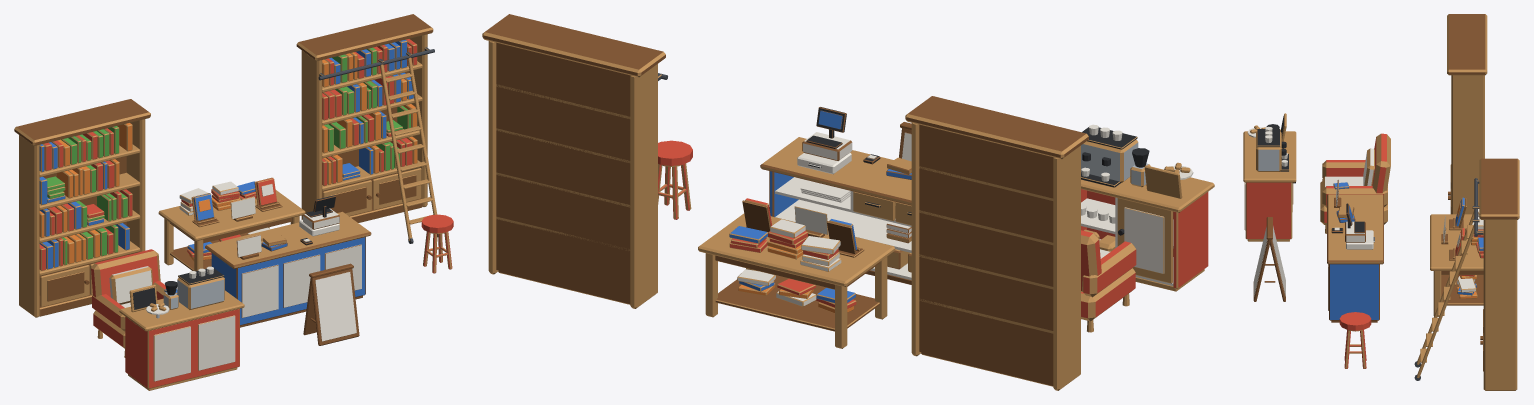
Rendered from low-poly-bookstore-set.glb.
3 views of the same model, side by side, from view 1: azimuth 30°, elevation 25°; view 2: azimuth 150°, elevation 25°; view 3: azimuth 270°, elevation 25° (orthographic). The views are drawn at different scales.
Parts seen in each view (by area): view 1: Bookshelf_Tall_Body, Bookshelf_Ladder_Body, Cafe_Counter_Body, Register_Counter_Body, Feature_Table_Body, Reading_Armchair_Body, Sign_ABoard_Blank_Body, Bookshelf_Ladder_Ladder, Bookshelf_Tall_Door_L, Bookshelf_Ladder_Door_R, Cafe_Stool_Body, Bookshelf_Ladder_Door_L; view 2: Bookshelf_Ladder_Body, Bookshelf_Tall_Body, Feature_Table_Body, Register_Counter_Body, Cafe_Counter_Body, Reading_Armchair_Body, Cafe_Counter_Door, Cafe_Stool_Body, Register_Counter, Register_Counter_CashDrawer; view 3: Bookshelf_Ladder_Body, Bookshelf_Tall_Body, Register_Counter_Body, Cafe_Counter_Body, Feature_Table_Body, Reading_Armchair_Body, Bookshelf_Ladder_Ladder, Sign_ABoard_Blank_Body, Cafe_Stool_Body, Register_Counter_CashDrawer.
Boxes of the visible parts, <box> form: Bookshelf_Tall_Body: <box>14,99,150,317</box>; Bookshelf_Ladder_Body: <box>296,14,434,222</box>; Cafe_Counter_Body: <box>119,266,244,390</box>; Register_Counter_Body: <box>205,195,371,327</box>; Feature_Table_Body: <box>158,177,305,271</box>; Reading_Armchair_Body: <box>91,249,177,357</box>; Sign_ABoard_Blank_Body: <box>303,263,359,345</box>; Bookshelf_Ladder_Ladder: <box>378,52,438,243</box>; Bookshelf_Tall_Door_L: <box>40,265,89,307</box>; Bookshelf_Ladder_Door_R: <box>372,168,421,210</box>; Cafe_Stool_Body: <box>421,214,453,273</box>; Bookshelf_Ladder_Door_L: <box>322,180,371,216</box>; Bookshelf_Ladder_Body: <box>482,14,667,308</box>; Bookshelf_Tall_Body: <box>905,96,1088,390</box>; Feature_Table_Body: <box>698,198,895,348</box>; Register_Counter_Body: <box>760,107,911,284</box>; Cafe_Counter_Body: <box>1081,124,1214,291</box>; Reading_Armchair_Body: <box>1081,230,1136,332</box>; Cafe_Counter_Door: <box>1117,198,1172,283</box>; Cafe_Stool_Body: <box>658,140,692,219</box>; Register_Counter: <box>853,191,911,225</box>; Register_Counter_CashDrawer: <box>797,152,851,174</box>; Bookshelf_Ladder_Body: <box>1474,158,1519,390</box>; Bookshelf_Tall_Body: <box>1447,14,1487,214</box>; Register_Counter_Body: <box>1327,179,1383,322</box>; Cafe_Counter_Body: <box>1243,113,1296,241</box>; Feature_Table_Body: <box>1430,197,1483,316</box>; Reading_Armchair_Body: <box>1320,133,1390,233</box>; Bookshelf_Ladder_Ladder: <box>1414,206,1479,380</box>; Sign_ABoard_Blank_Body: <box>1253,217,1285,301</box>; Cafe_Stool_Body: <box>1339,312,1371,368</box>; Register_Counter_CashDrawer: <box>1346,230,1374,249</box>.
Size of the model in its own units: 22.55 by 9.3 by 13.03.
